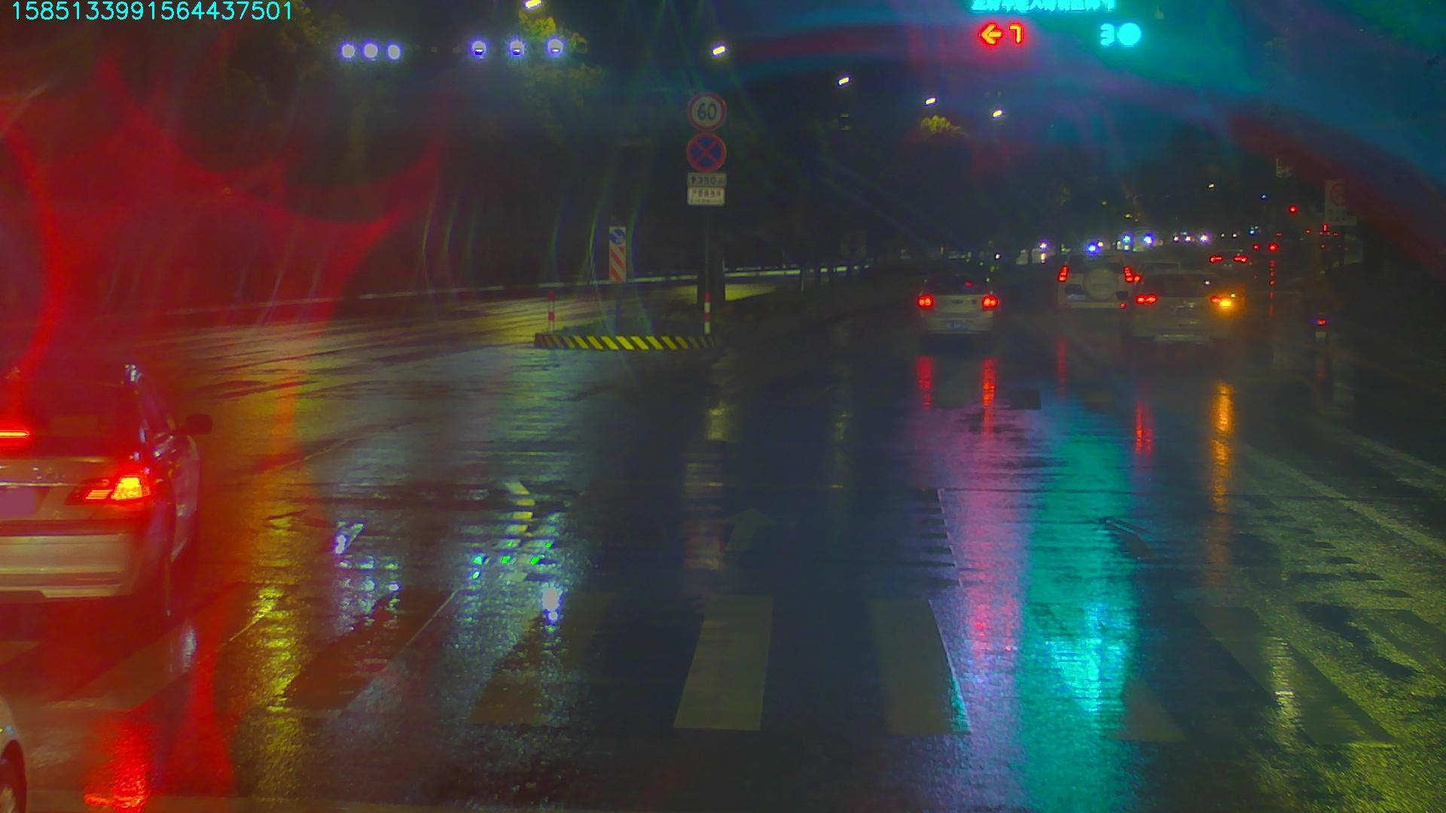green: (1091, 17, 1143, 49)
red: (970, 19, 1030, 51)
wait_on: (964, 1, 1130, 17)
